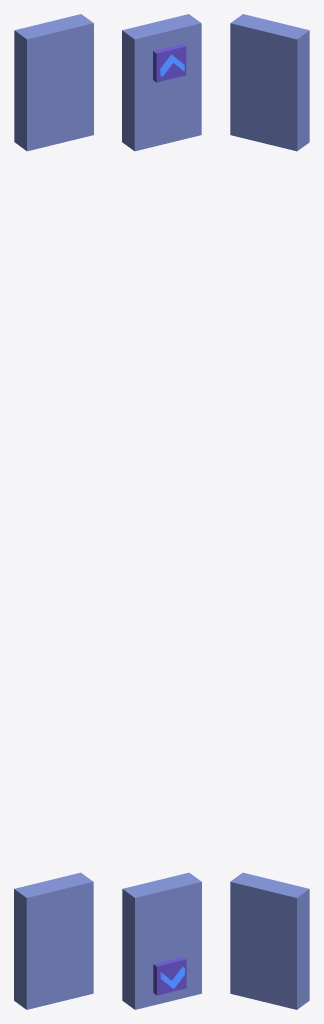
The model's file is elevator extra.glb.
The picture shows the model from 3 angles, left to right: view 1: azimuth 30°, elevation 25°; view 2: azimuth 210°, elevation 25°; view 3: azimuth 330°, elevation 25°; orthographic projection.
Visible parts, largest first — view 1: buttons 1, buttons 2; view 2: buttons 1, buttons 2, Cube.001, Cube.008, Cube.009, Cube.002; view 3: buttons 1, buttons 2.
Part boxes in pixels (x1,y1,x2,y2): buttons 1: [14, 872, 93, 1009]; buttons 2: [14, 14, 93, 151]; buttons 1: [122, 872, 201, 1009]; buttons 2: [122, 14, 201, 151]; Cube.001: [153, 44, 186, 82]; Cube.008: [153, 957, 186, 995]; Cube.009: [160, 966, 184, 988]; Cube.002: [160, 54, 184, 76]; buttons 1: [230, 872, 309, 1009]; buttons 2: [230, 14, 309, 151].
Size of the model in its own units: 0.0844 by 1.17 by 0.0399.
